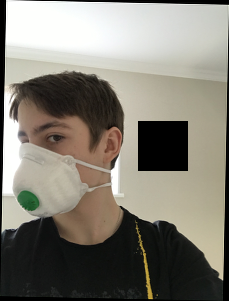with_mask: (11, 114, 96, 218)
